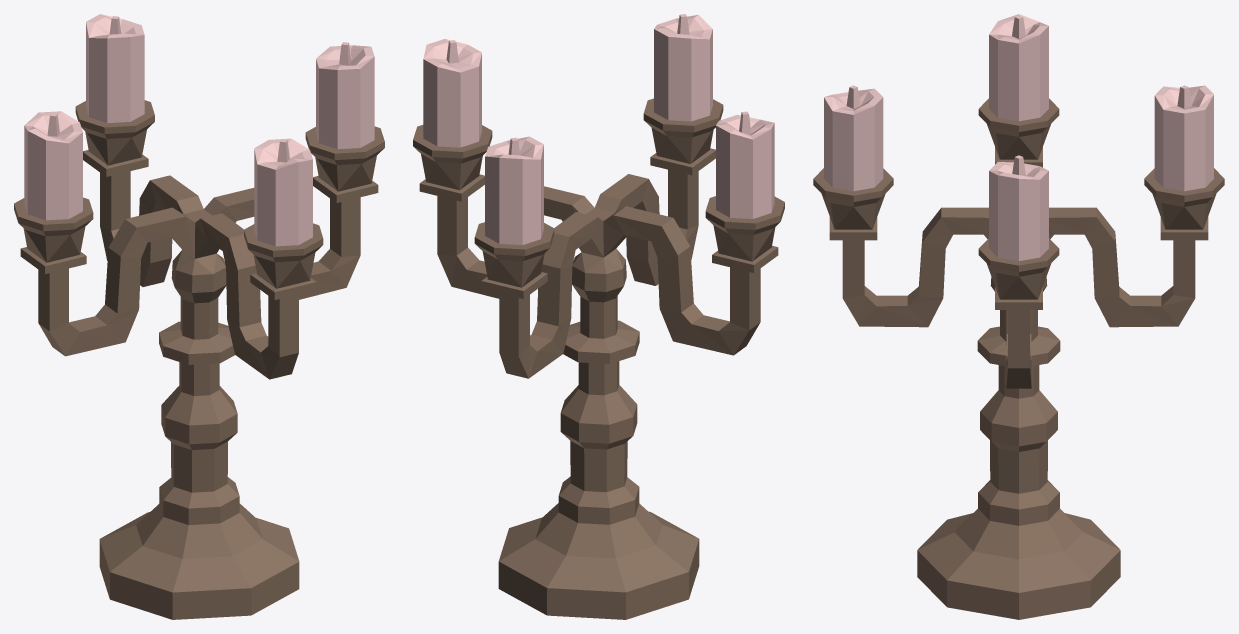
Rendered from SM_Item_Candelabra_02.glb.
The picture shows the model from 3 angles, left to right: view 1: azimuth 30°, elevation 25°; view 2: azimuth 150°, elevation 25°; view 3: azimuth 270°, elevation 25°; orthographic projection. The views are drawn at different scales.
Parts seen in each view (by area): view 1: SM_Item_Candelabra_02_00; view 2: SM_Item_Candelabra_02_00; view 3: SM_Item_Candelabra_02_00.
Part boxes in pixels (x1,y1,x2,y2): SM_Item_Candelabra_02_00: [14, 14, 384, 619]; SM_Item_Candelabra_02_00: [413, 14, 784, 619]; SM_Item_Candelabra_02_00: [813, 14, 1224, 619].
Size of the model in its own units: 0.4321 by 0.5681 by 0.4321.
1 material, 1 textured.
